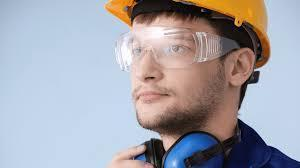Ear_protector: (152, 134, 228, 168)
Hard_hat: (101, 0, 275, 66)
Visor: (96, 26, 241, 72)
